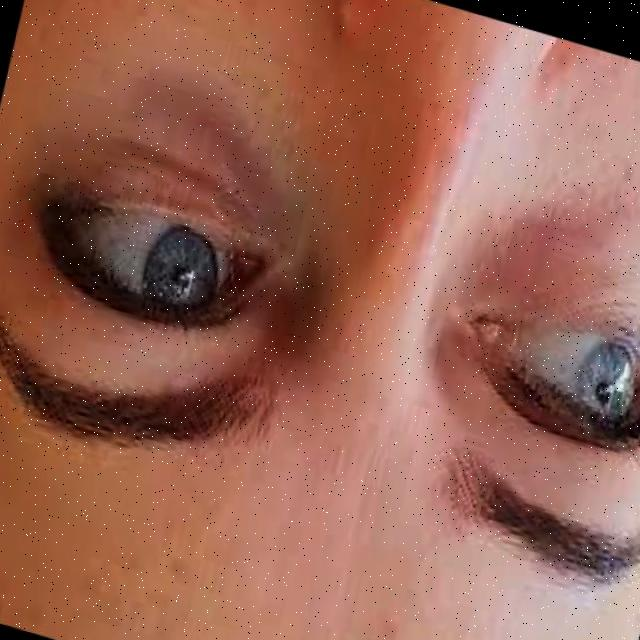puffy_eyes: (59, 58, 343, 259), (463, 187, 640, 367)
